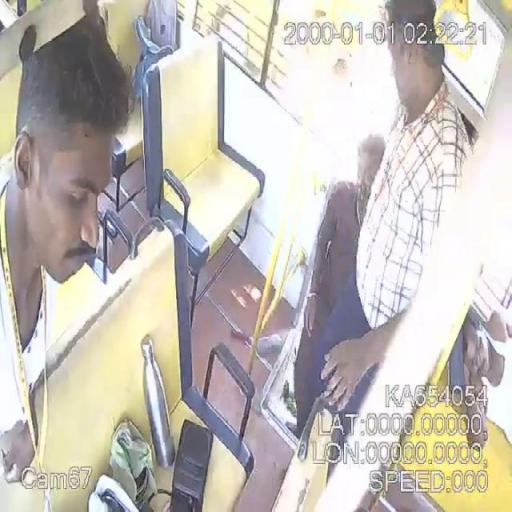persona: (317, 1, 480, 446), (0, 1, 134, 504), (294, 129, 382, 472)
